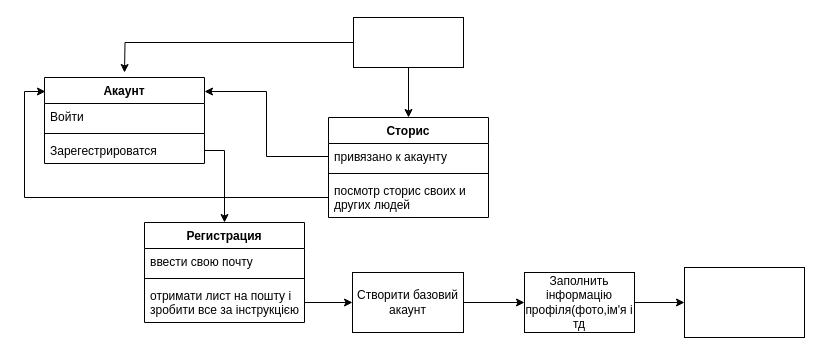
This 822x355 diagram has some shape labels left out. The centre of each missing label's shape, as x and y in pixels:
Веб інтерфейс: [408,42]
після цього в зареєстрованого користувача будуть усі функції: [744,302]
